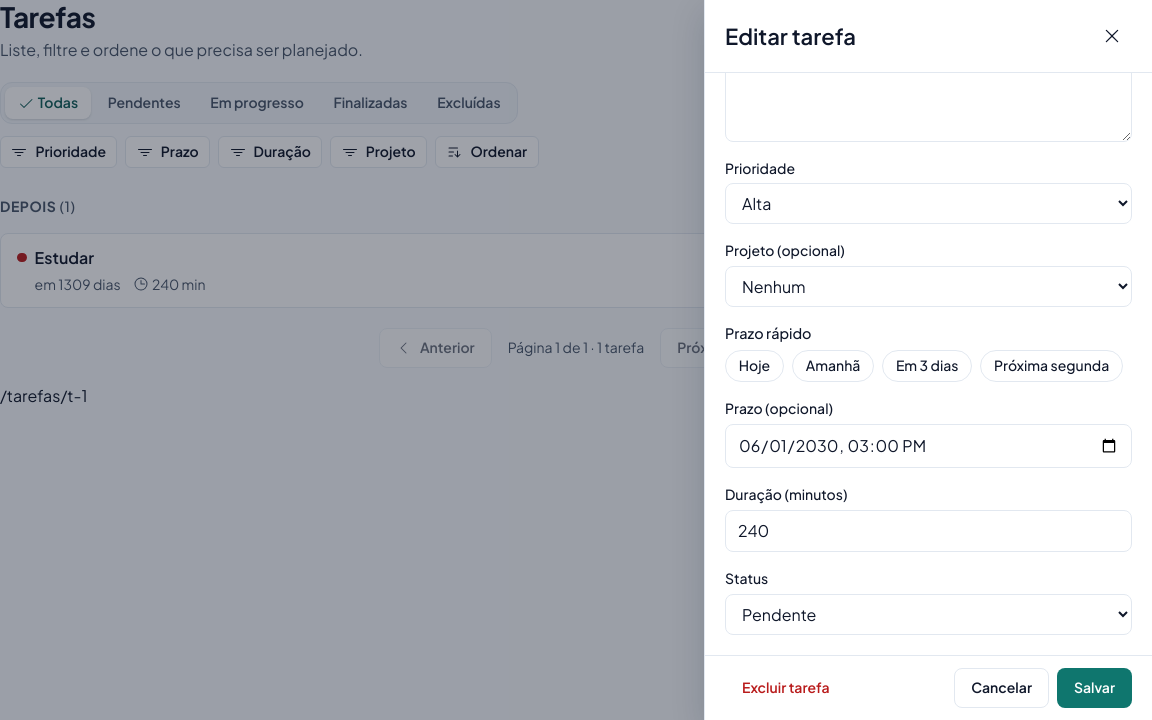
Test: TarefaDrawer › salvar e criar › bloqueia ATRASADA com prazo futuro na validação local
(page scrolled)
Select "Atrasada" in the dropdown labelled "Status" at (928, 614), box [725, 594, 1132, 635]
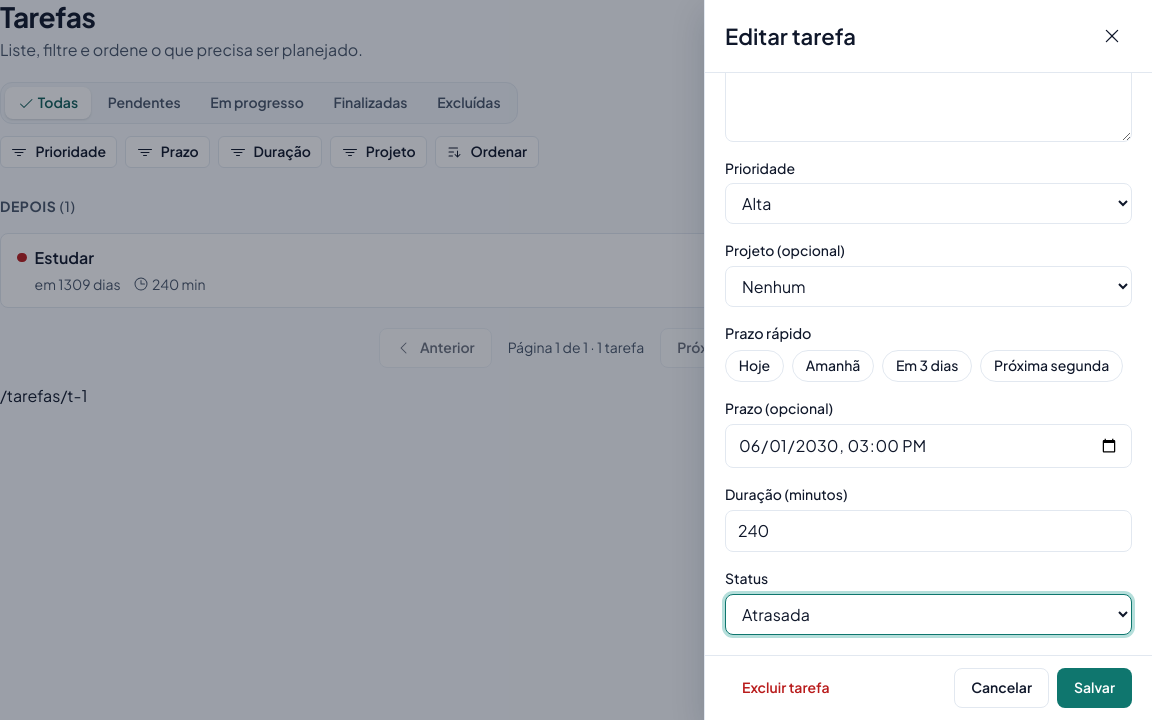
Click the button "Salvar" at (1094, 688), box [1057, 668, 1132, 708]
(page scrolled)
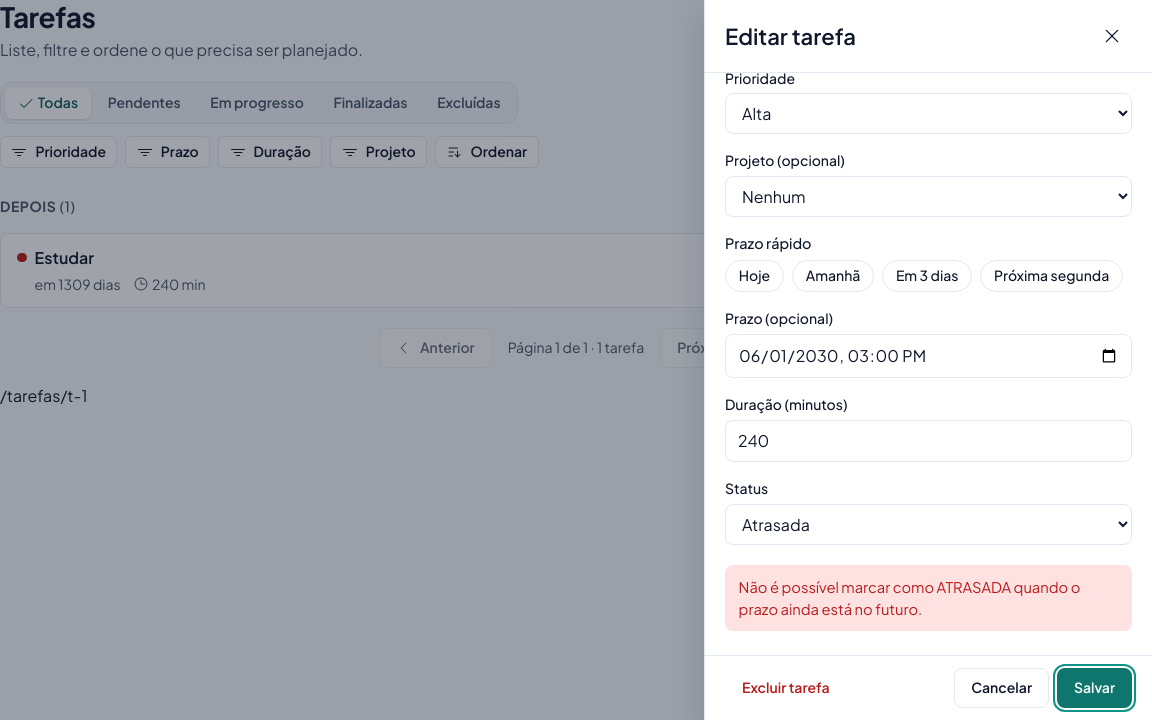
Check: the message shows "ATRASADA", box [739, 578, 1080, 618]
